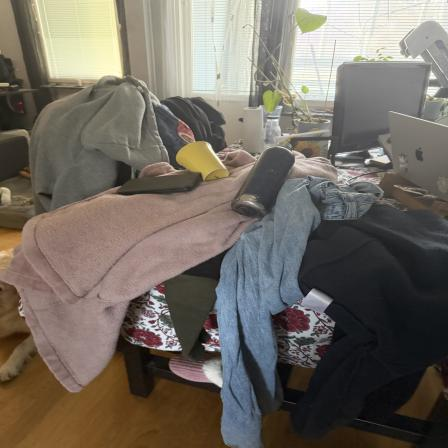blue_bottle: (237, 140, 297, 214)
phone: (120, 174, 203, 194)
yellow_cup: (170, 140, 232, 180)
